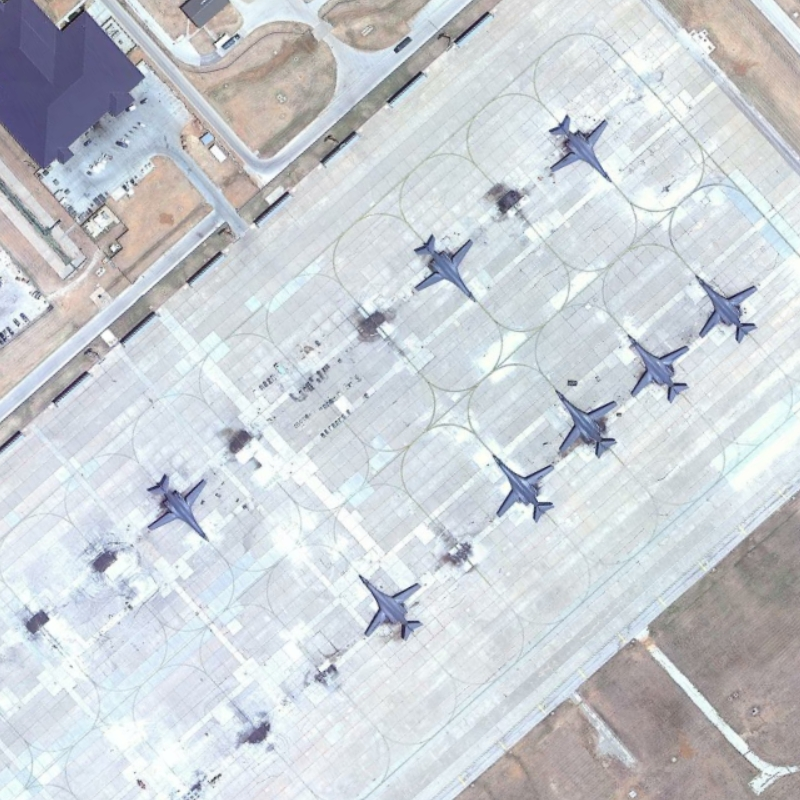A10: (348, 564, 427, 647), (689, 267, 765, 351), (544, 108, 622, 189), (620, 328, 696, 411), (404, 228, 482, 307), (487, 449, 560, 533), (550, 383, 623, 463), (144, 471, 215, 542)
